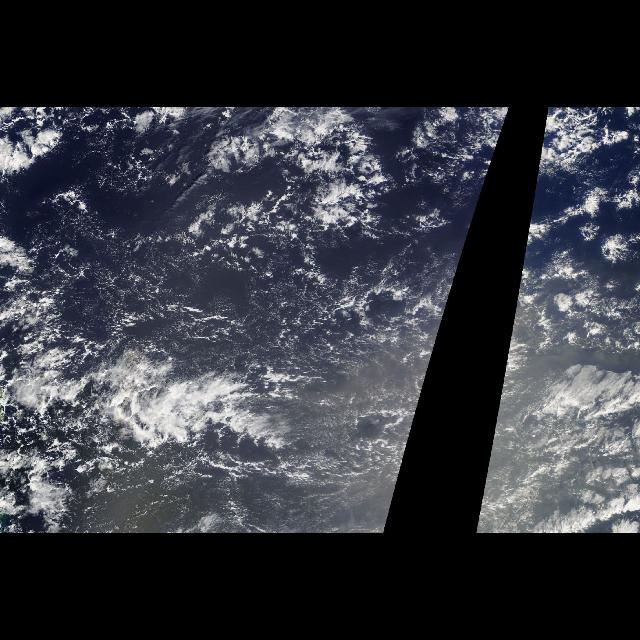Fish: (16, 297, 390, 488)
Gravel: (132, 230, 404, 366)
